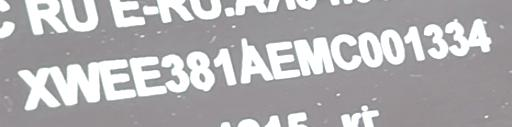letter: (48, 61, 102, 106), (15, 64, 61, 110), (291, 35, 337, 76), (96, 57, 136, 102), (127, 56, 167, 97), (262, 41, 302, 80), (237, 44, 275, 85), (159, 52, 191, 95), (329, 32, 363, 71), (185, 50, 217, 91), (379, 26, 407, 67), (356, 29, 384, 70), (211, 46, 239, 87), (401, 24, 427, 64), (467, 17, 495, 54), (421, 22, 449, 59), (444, 20, 470, 58)
